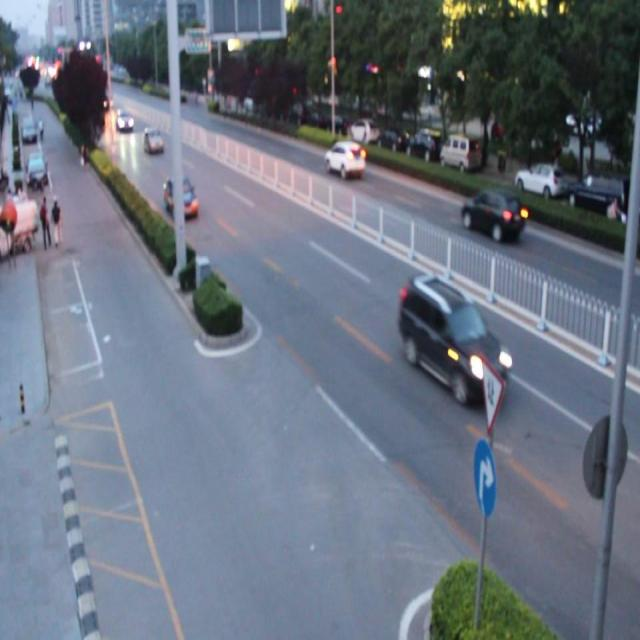car: (399, 273, 507, 405), (461, 183, 522, 241), (163, 174, 198, 222), (324, 139, 364, 180), (142, 124, 164, 155)
